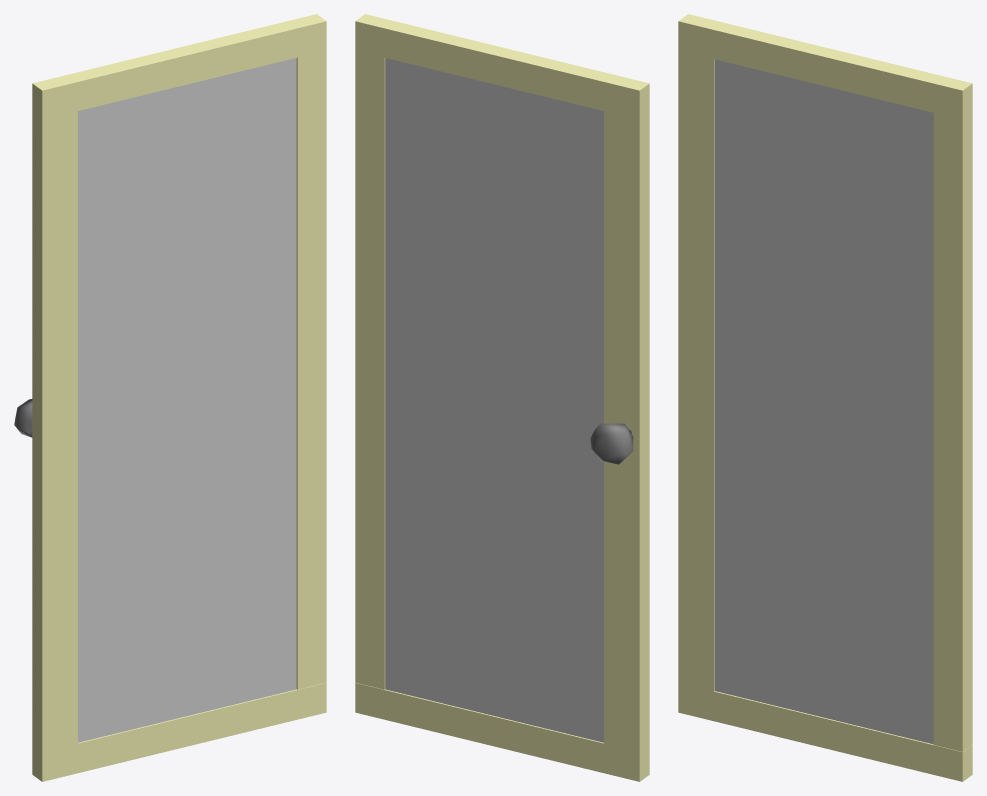
Rendered from single_glass_door.fbx.
3 views of the same model, side by side, from view 1: azimuth 30°, elevation 25°; view 2: azimuth 150°, elevation 25°; view 3: azimuth 330°, elevation 25° (orthographic).
Parts seen in each view (by area): view 1: Cube.001; view 2: Cube.001; view 3: Cube.001.
Part boxes in pixels (box(x1,y1,x2,y2)): Cube.001: box(14, 14, 326, 781); Cube.001: box(355, 14, 649, 781); Cube.001: box(678, 14, 972, 781).
Size of the model in its own units: 159 by 364 by 29.16.
